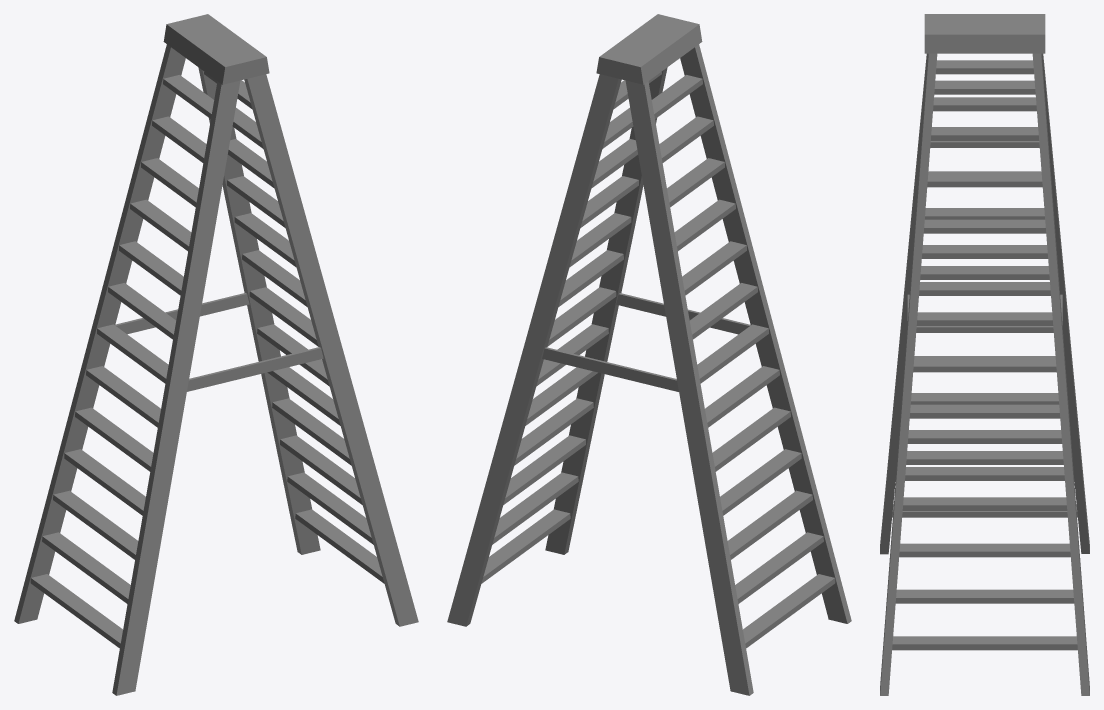
The model's file is Ladder.glb.
The picture shows the model from 3 angles, left to right: view 1: azimuth 30°, elevation 25°; view 2: azimuth 150°, elevation 25°; view 3: azimuth 270°, elevation 25°; orthographic projection. The views are drawn at different scales.
Visible parts, largest first — view 1: Ladder; view 2: Ladder; view 3: Ladder.
Part boxes in pixels (box(x1,y1,x2,y2)): Ladder: box(14, 14, 418, 695); Ladder: box(447, 14, 851, 695); Ladder: box(880, 14, 1089, 695).
Size of the model in its own units: 1.22 by 2.25 by 0.717.
Materials: 1 (1 with a texture image).
